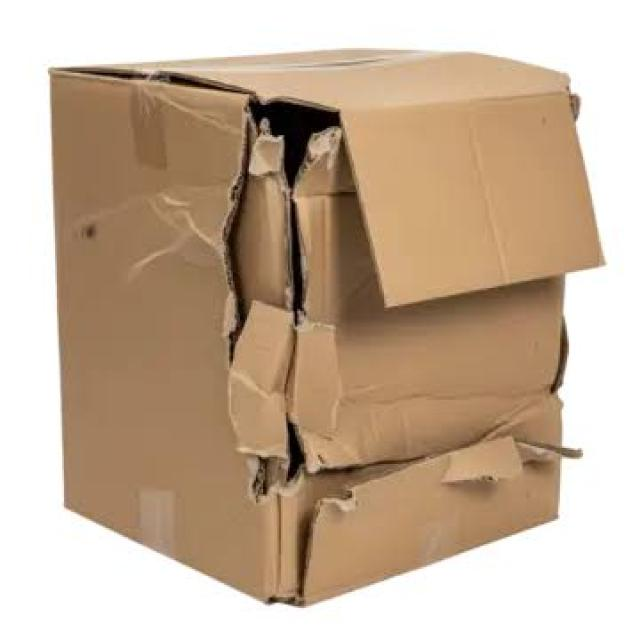carton_box: (26, 28, 611, 620)
package_damage: (197, 72, 395, 622), (41, 50, 265, 125), (543, 299, 585, 418)
